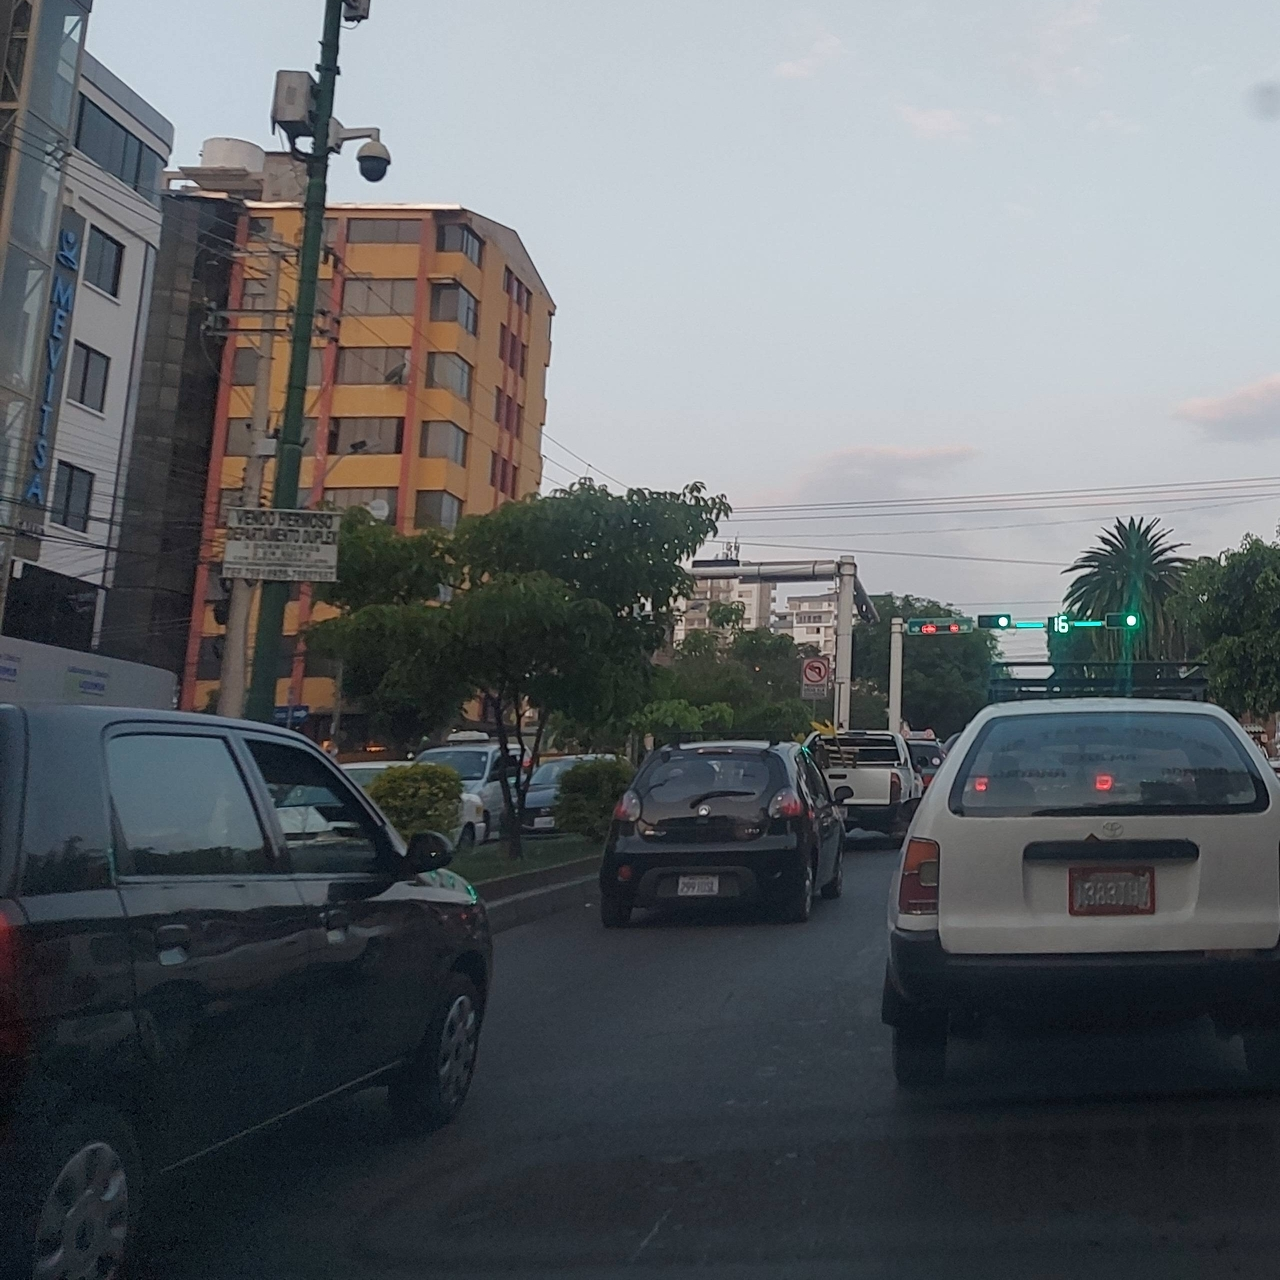prohibido-girar-izquierda: (802, 659, 829, 702)
